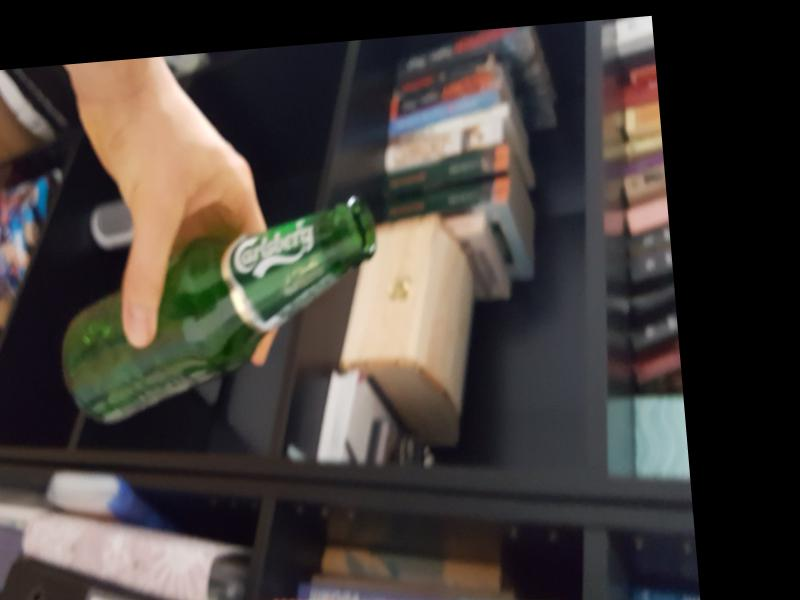Beer: (50, 199, 388, 431)
